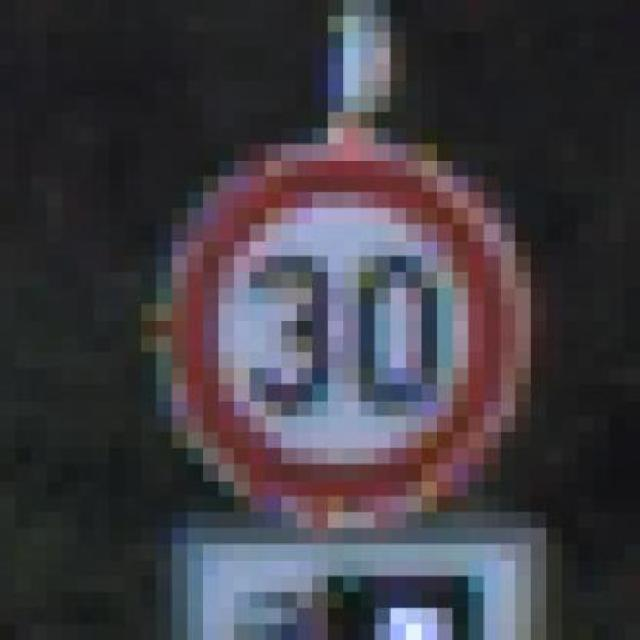Speed Limit 30 KMPh: (109, 111, 546, 544)
